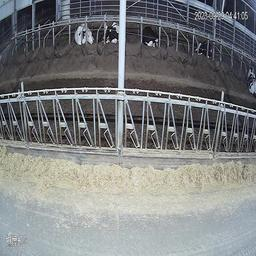cow: (102, 18, 121, 46), (140, 24, 160, 50), (74, 21, 94, 46), (195, 40, 216, 59), (247, 63, 255, 99)
